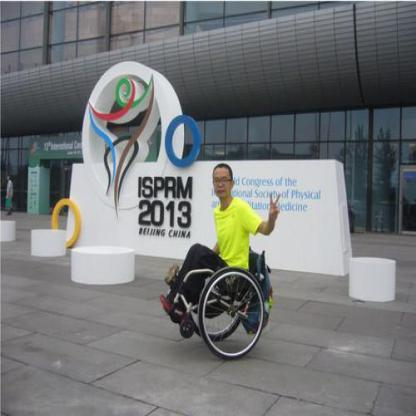wheelchair: (165, 161, 281, 368)
